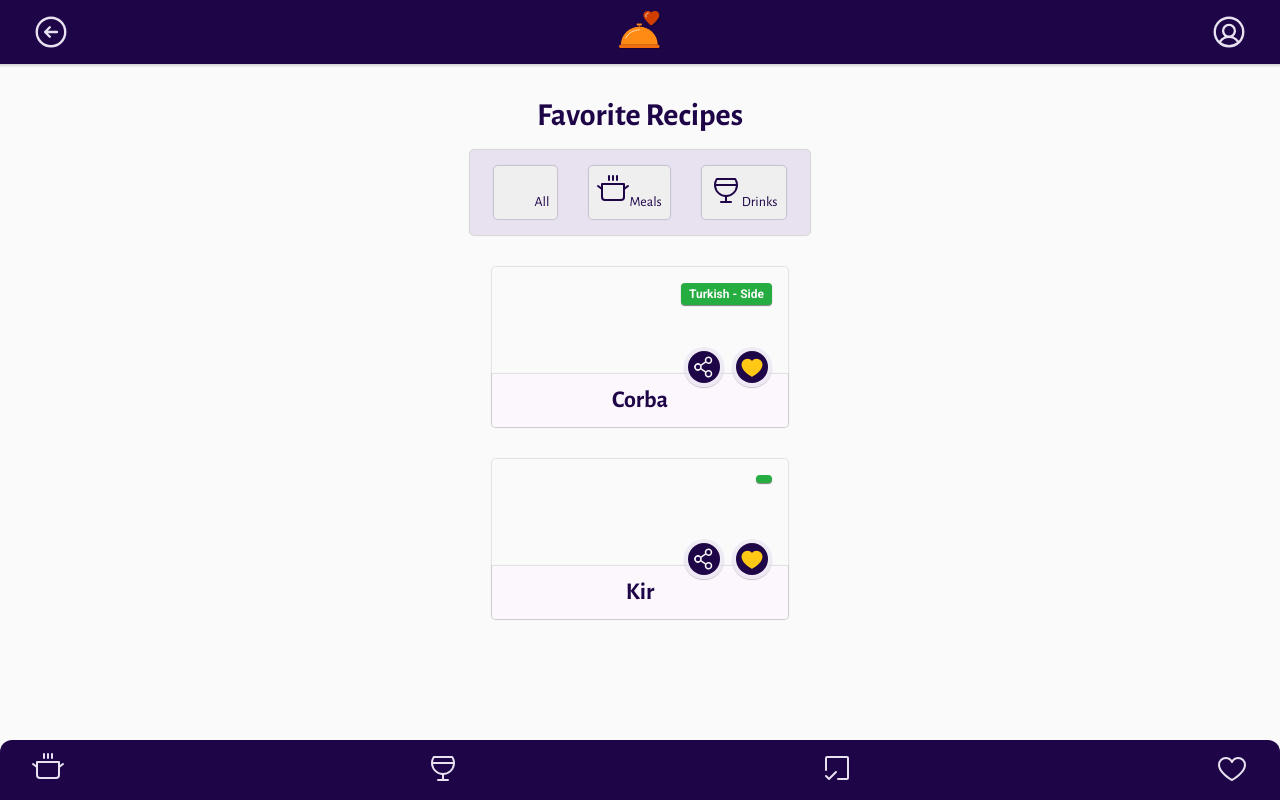
it: Testa a página Favorite Recipes › Verifica se a bebida é apagada ao clicar no botão de desfavoritar
Click the button with test id "1-horizontal-favorite-btn": [752, 559] box [736,543,768,575]
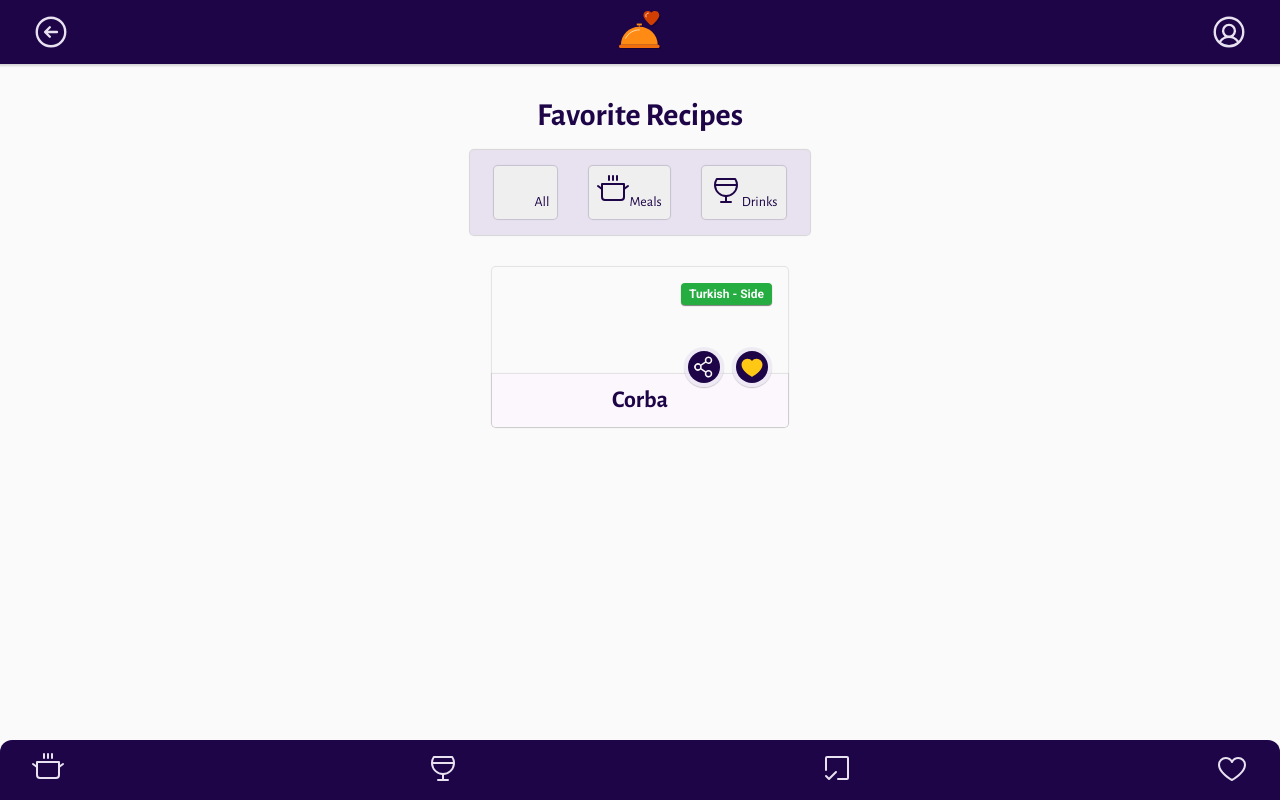
Expected: the text with test id "1-horizontal-name" is gone
